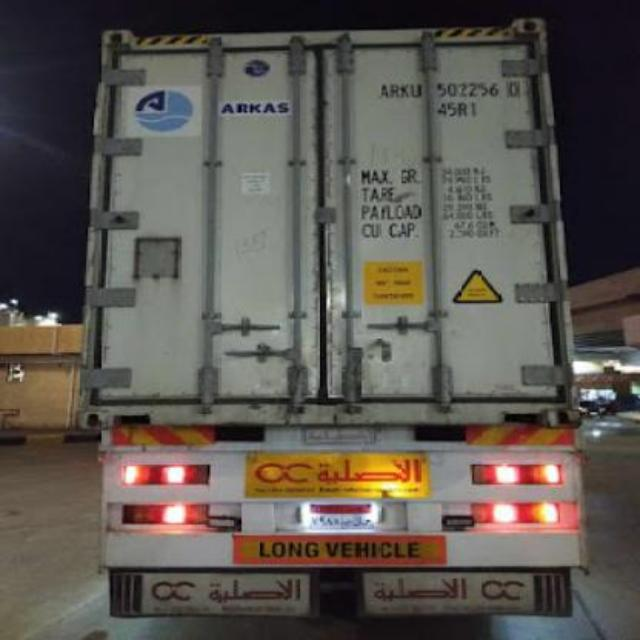0: (446, 84, 458, 96), (508, 84, 520, 96)
2: (468, 83, 480, 99), (458, 81, 468, 97)
5: (434, 82, 446, 96), (478, 81, 488, 97)
6: (490, 81, 500, 97)
A: (378, 83, 388, 99)
K: (400, 84, 410, 96)
R: (390, 84, 400, 98)
U: (410, 83, 422, 99)
